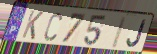5: (82, 14, 108, 47)
7: (60, 13, 87, 45)
C: (43, 11, 63, 42)
I: (109, 16, 128, 50)
J: (126, 19, 148, 49)
K: (20, 9, 45, 41)
